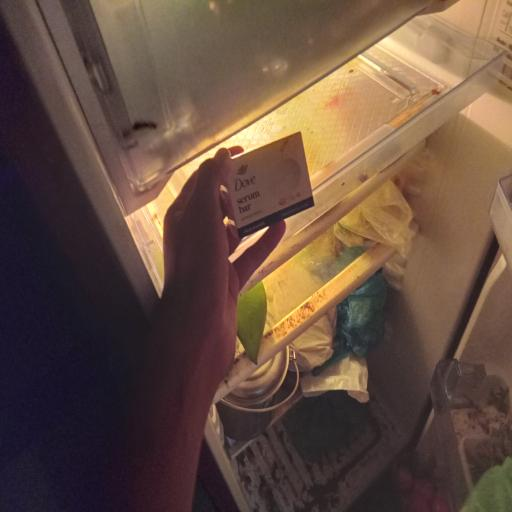Dove`1: (211, 132, 331, 240)
